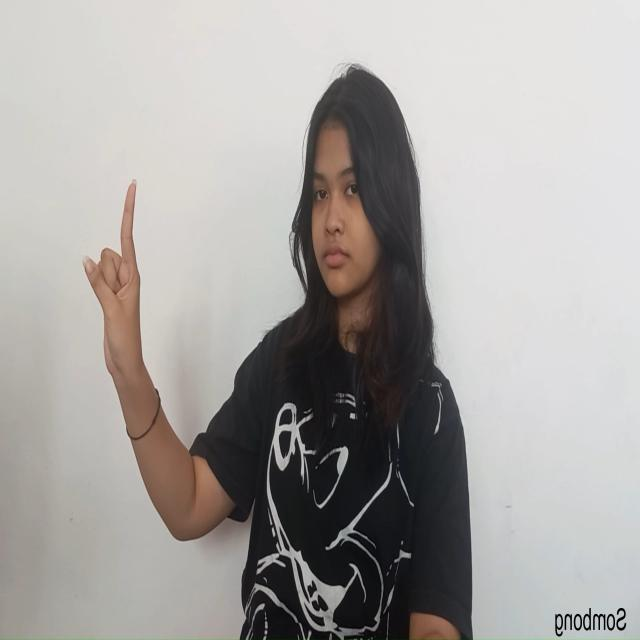Sombong -BISINDO-: (82, 176, 143, 397)
